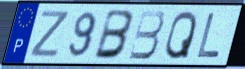9: (69, 9, 98, 59)
B: (92, 8, 136, 61), (127, 9, 166, 61)
L: (195, 12, 222, 60)
Q: (163, 9, 199, 62)
Z: (28, 10, 72, 59)
